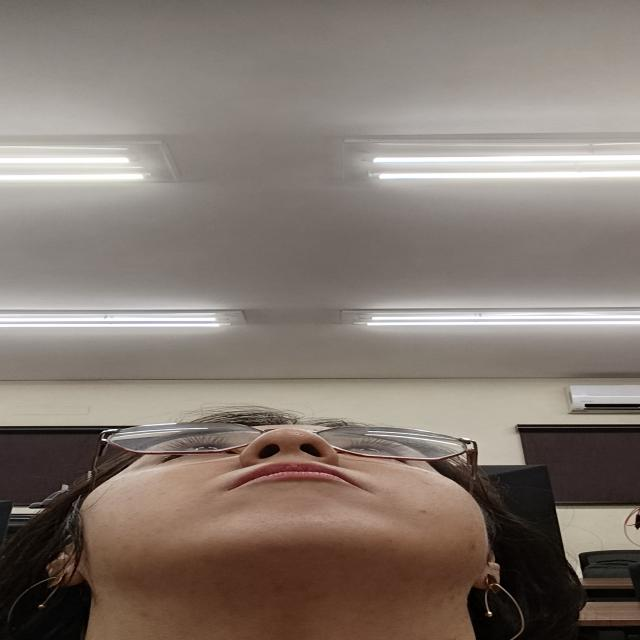sem_oculos: (88, 423, 477, 489)
